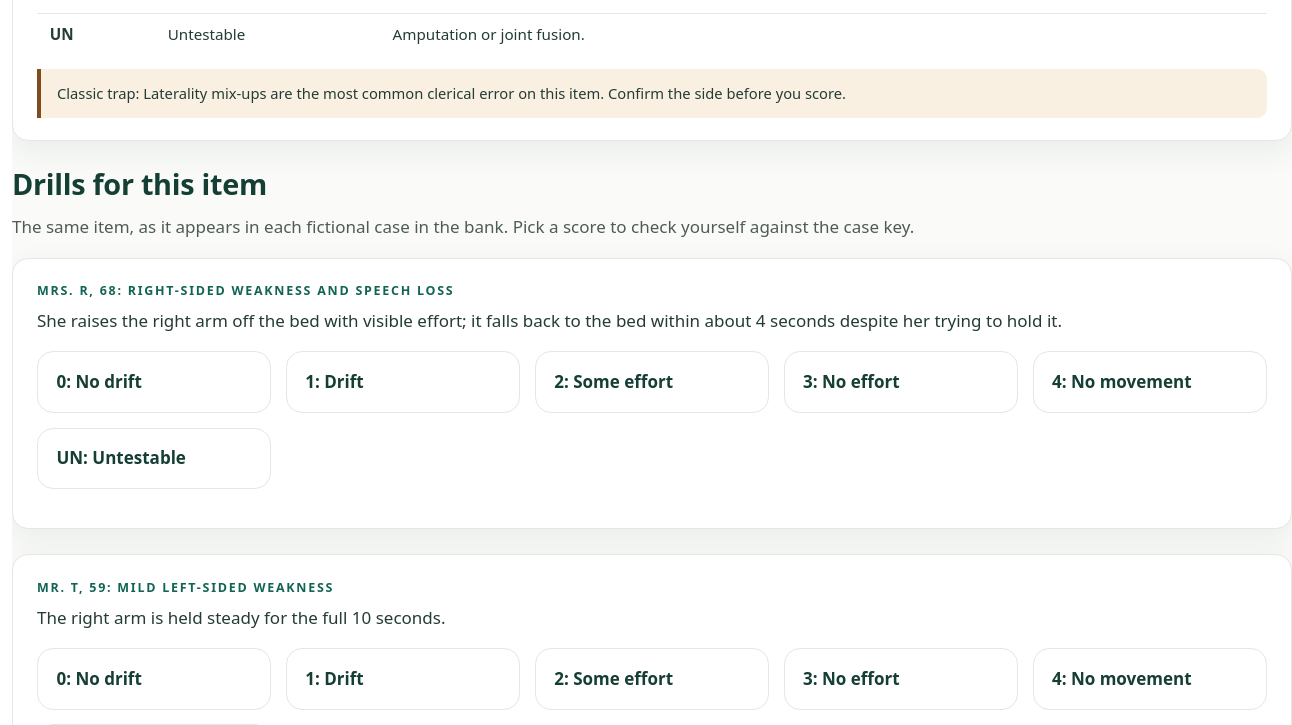
Test case: NihssTrainer › checks a drill answer against the case key
The width and height of the screenshot is (1292, 725).
(page scrolled)
Click the 1st button "2: Some effort" at {"x": 652, "y": 382}, box [535,351,769,413]
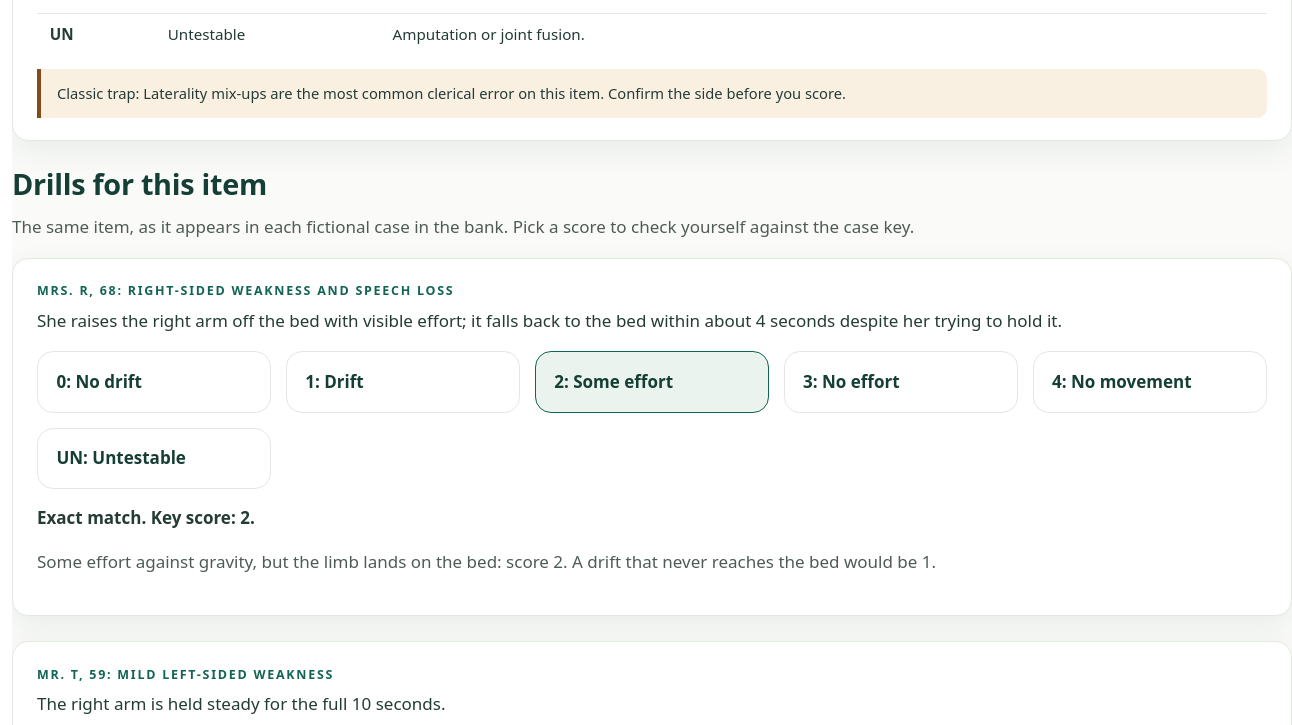
Result: the text "Exact match. Key score: 2." is shown at [37,506,255,529]
